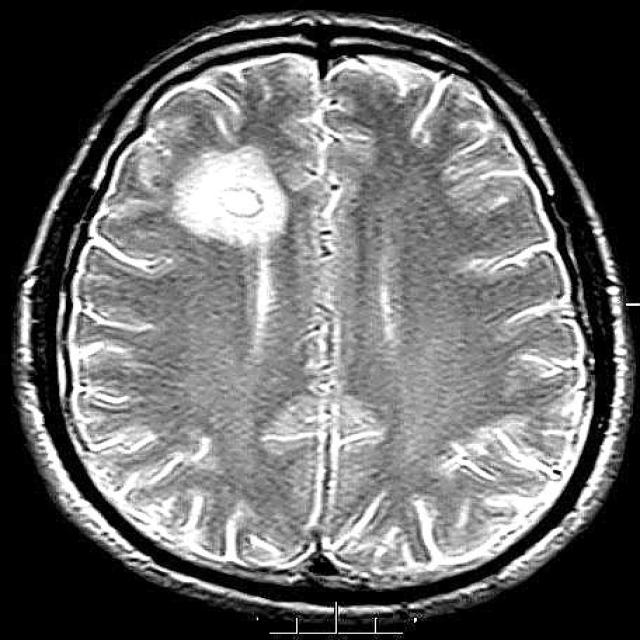Tumor-Cell: (162, 134, 338, 255)
